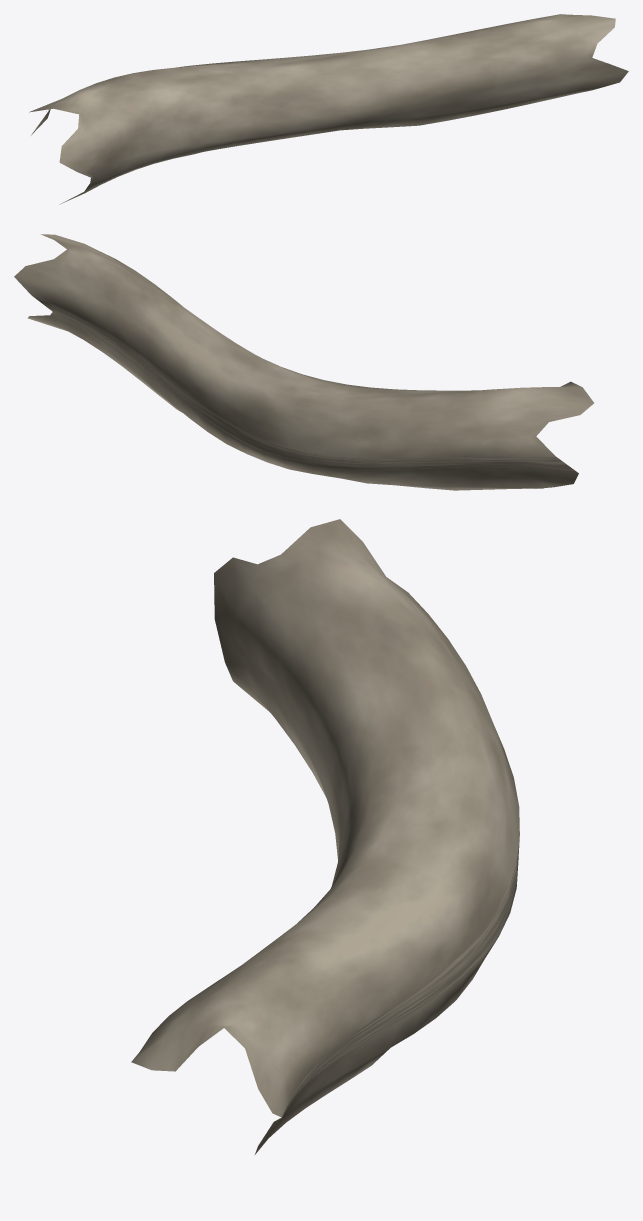
Rendered from driftwood_01.glb.
The picture shows the model from 3 angles, top to bottom: view 1: azimuth 30°, elevation 25°; view 2: azimuth 150°, elevation 25°; view 3: azimuth 270°, elevation 25°; orthographic projection. The views are drawn at different scales.
Visible parts, largest first — view 1: Driftwood_01; view 2: Driftwood_01; view 3: Driftwood_01.
Boxes of the visible parts, x1=… form: Driftwood_01: x1=29, y1=14, x2=628, y2=204; Driftwood_01: x1=14, y1=234, x2=593, y2=490; Driftwood_01: x1=131, y1=519, x2=519, y2=1154.
Size of the model in its own units: 1.71 by 0.2883 by 0.5387.
1 material, 1 textured.
